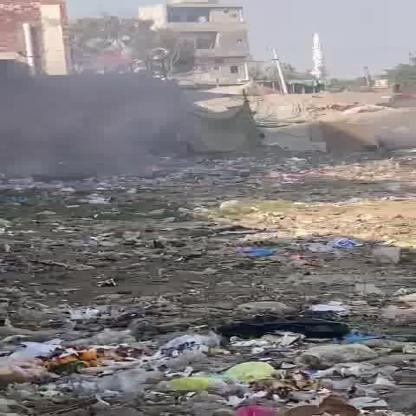Garbage: (1, 295, 416, 416), (5, 163, 416, 275)
